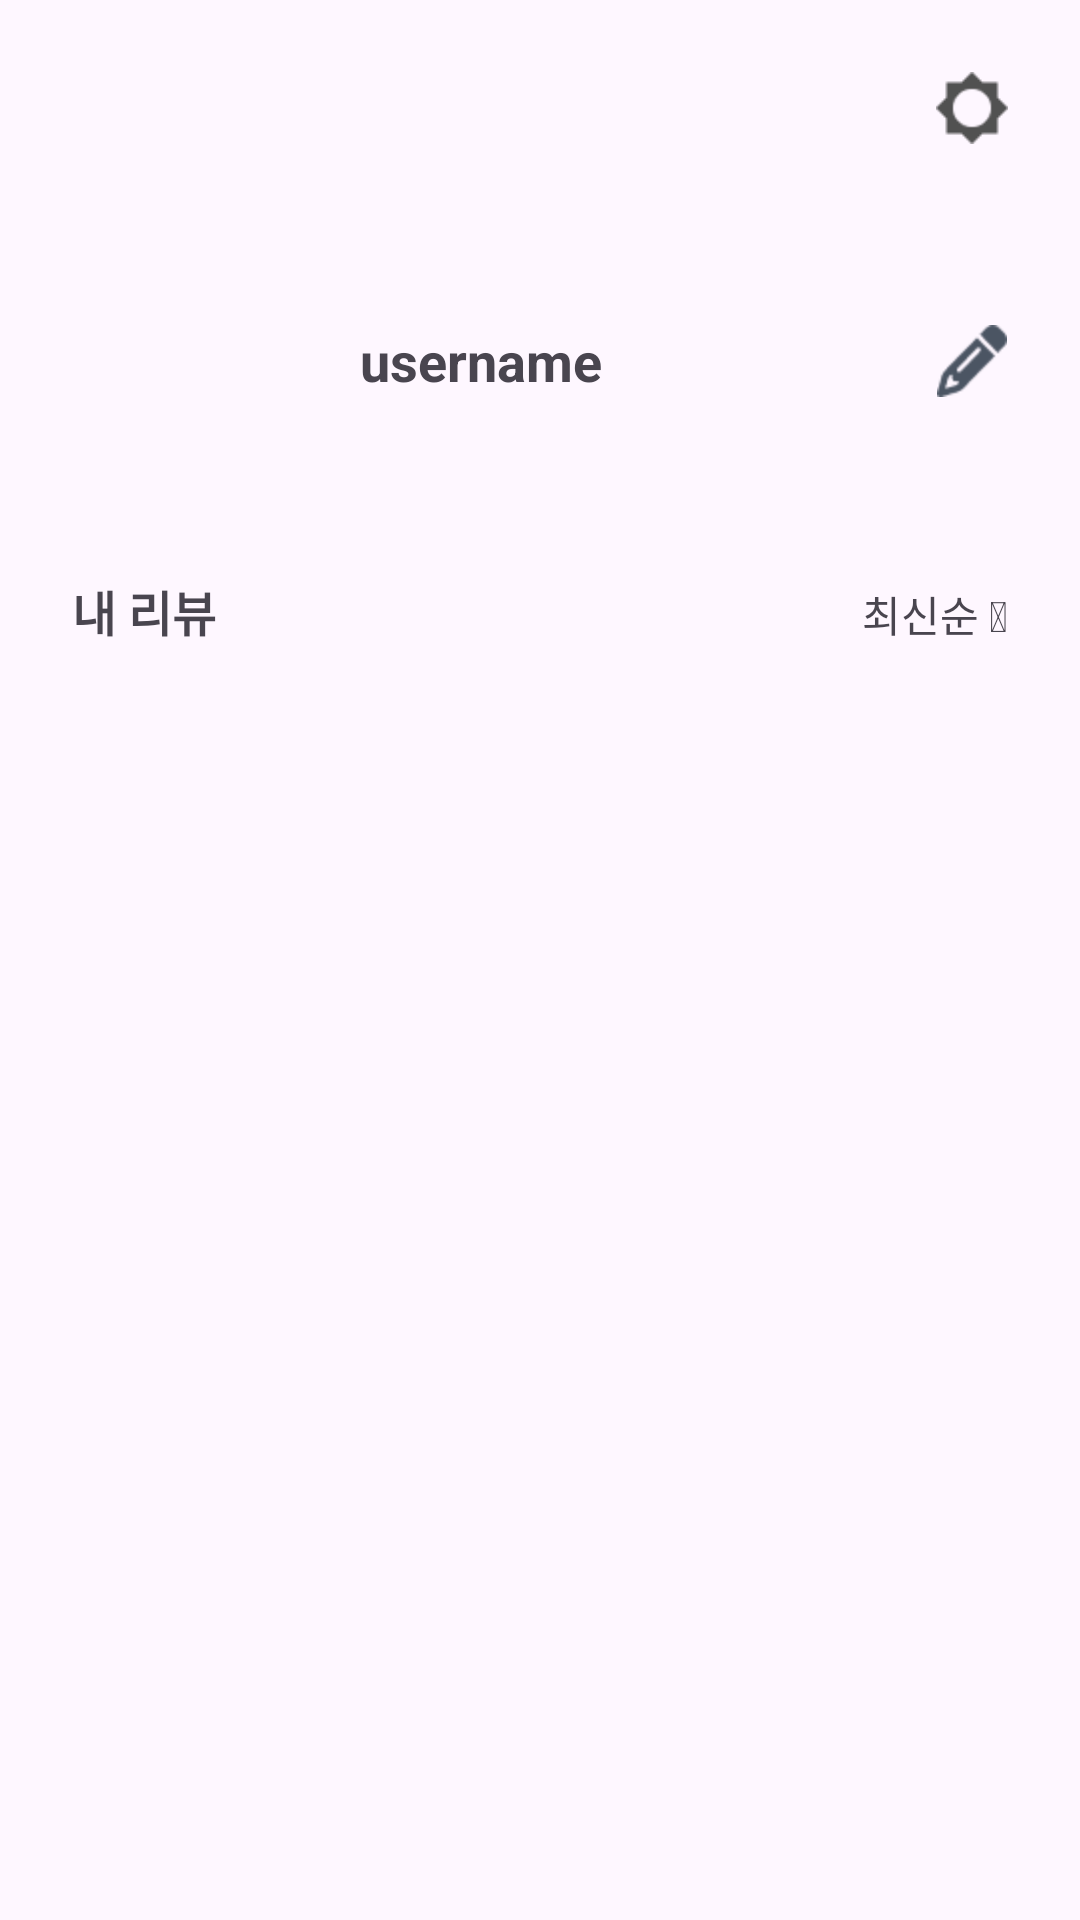

Icons on this 1080 × 1920 Android screen, each with its box as box=[x1, y1, x2, y2]:
edit: box=[937, 325, 1007, 397]
